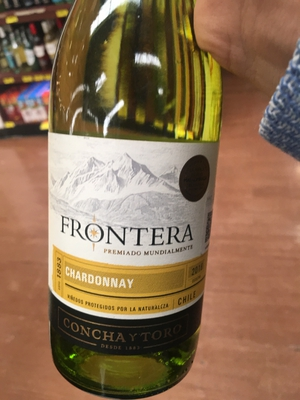frontera chardonnay: (46, 4, 229, 399)
